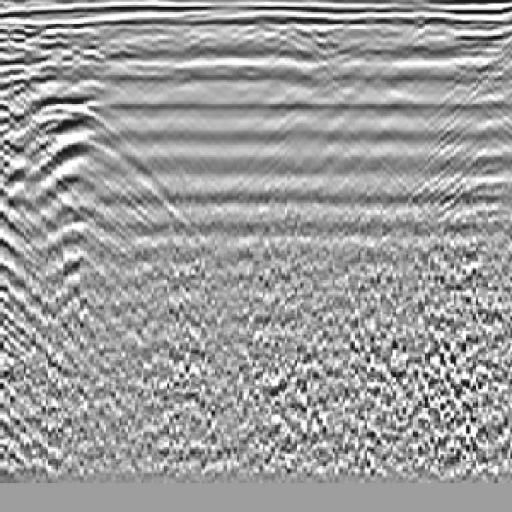metalic: (1, 94, 188, 275)
